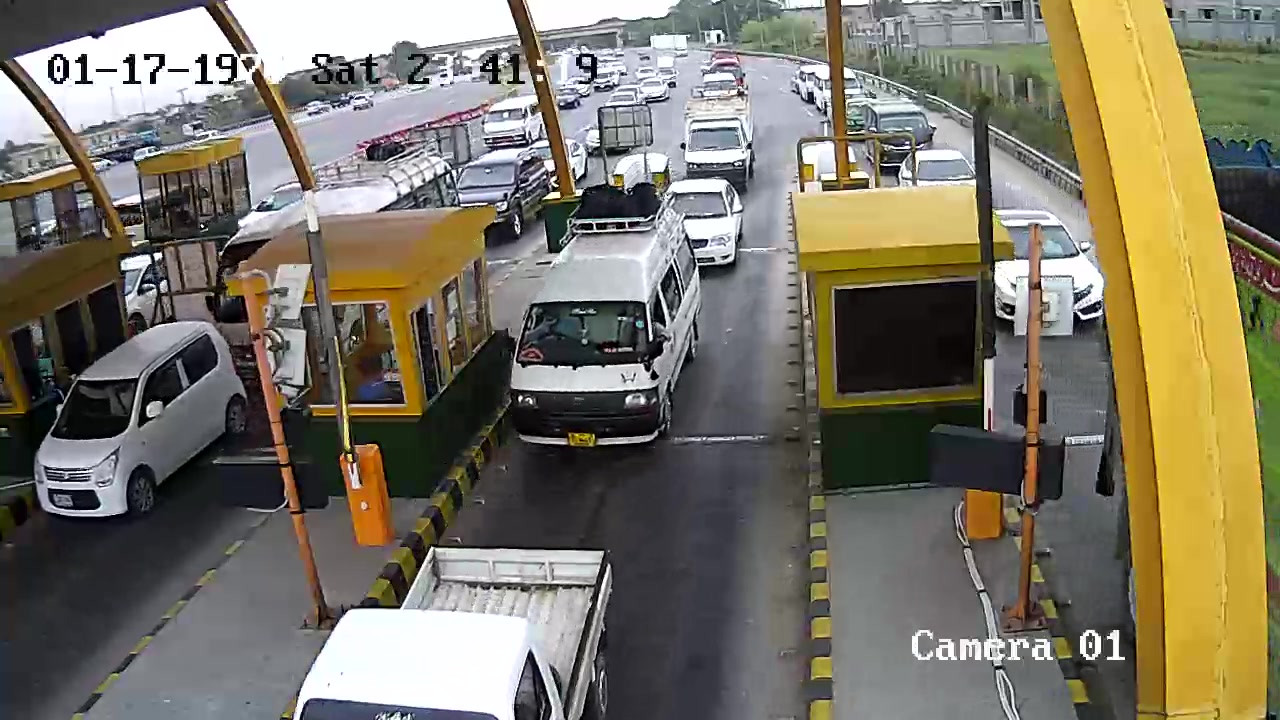F3: (503, 193, 712, 471)
